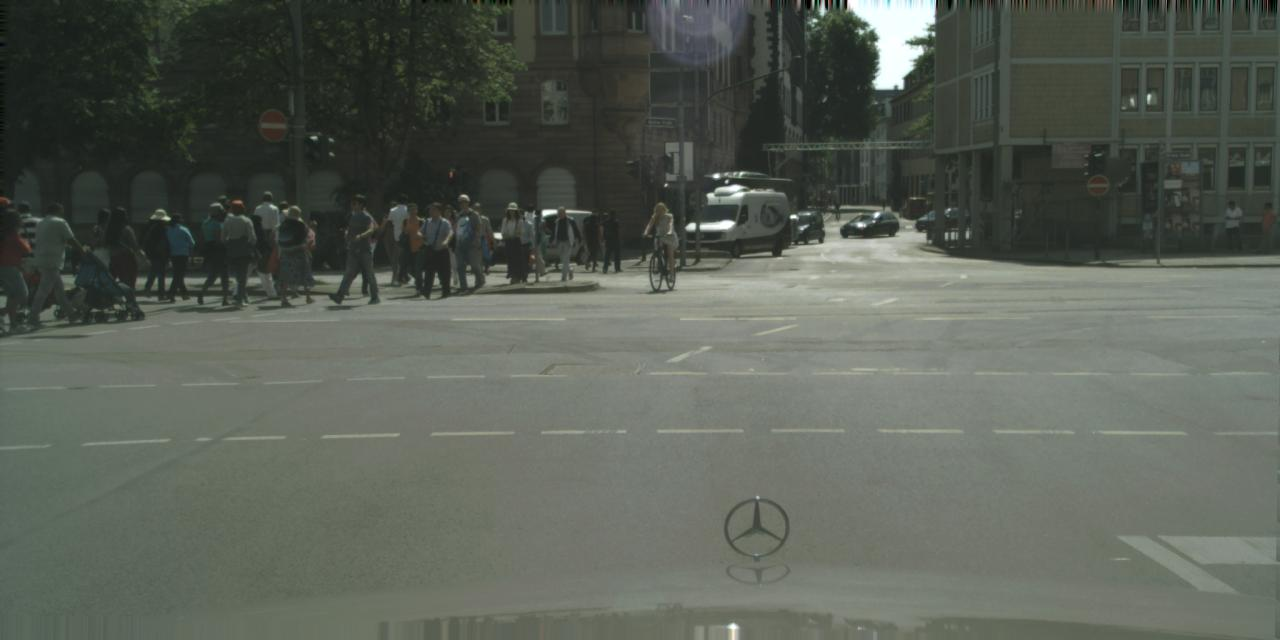ped: (29, 202, 79, 324), (334, 193, 378, 304), (219, 199, 262, 305), (6, 201, 48, 306), (192, 202, 234, 305), (100, 206, 142, 308), (0, 209, 33, 333), (276, 204, 316, 304), (446, 192, 486, 288), (415, 202, 453, 297), (84, 208, 122, 302), (396, 203, 434, 296), (338, 202, 376, 294), (264, 200, 302, 292), (137, 210, 175, 300), (157, 211, 194, 301), (386, 194, 422, 283), (249, 191, 284, 280), (0, 198, 27, 311), (202, 195, 237, 282), (377, 202, 412, 286), (238, 215, 272, 298), (433, 205, 466, 286), (497, 202, 529, 282), (270, 216, 302, 295), (549, 205, 579, 278), (471, 202, 499, 276), (648, 202, 676, 272), (517, 205, 543, 269), (598, 209, 624, 272), (510, 209, 536, 272), (580, 209, 606, 270), (528, 210, 550, 266), (594, 213, 615, 266), (1223, 201, 1244, 251), (1256, 202, 1275, 251), (834, 202, 840, 220), (881, 198, 886, 210), (828, 196, 832, 208), (834, 196, 837, 203), (853, 197, 855, 204)
